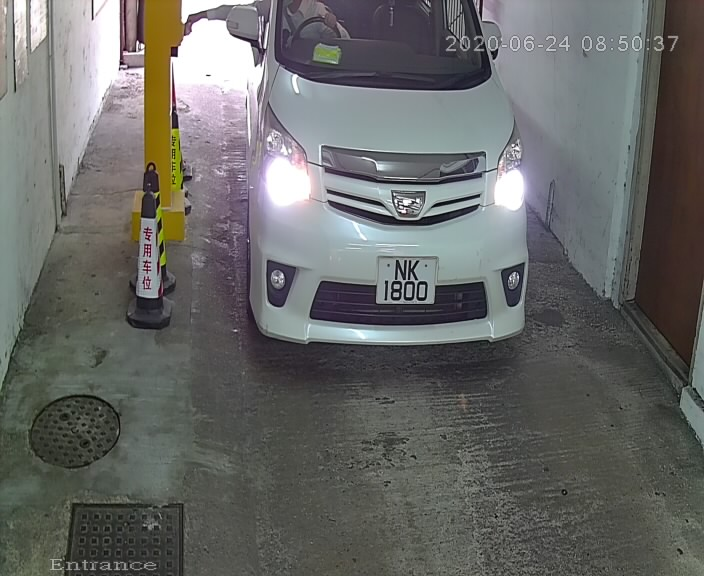privatecar: (206, 1, 545, 367)
